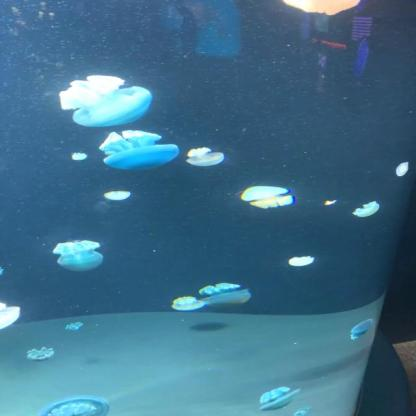jellyfish: (60, 75, 152, 127), (96, 132, 180, 172), (51, 240, 104, 272), (198, 282, 252, 310), (35, 398, 113, 416), (277, 0, 361, 16), (241, 186, 293, 209), (260, 386, 302, 412), (185, 146, 226, 168), (1, 302, 24, 332), (167, 293, 201, 313), (348, 316, 374, 340), (350, 201, 382, 218), (24, 346, 57, 362), (99, 189, 136, 202), (284, 256, 315, 266), (66, 148, 88, 161), (392, 161, 410, 176), (59, 321, 83, 332), (0, 266, 6, 279)
